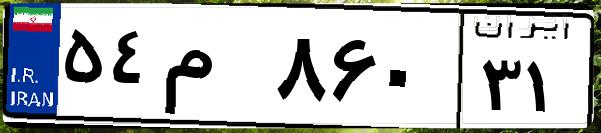0: (385, 28, 445, 110)
1: (525, 38, 570, 115)
3: (475, 38, 525, 113)
4: (110, 28, 158, 98)
5: (57, 26, 110, 100)
6: (330, 28, 385, 110)
8: (270, 28, 330, 110)
م: (158, 20, 270, 120)
